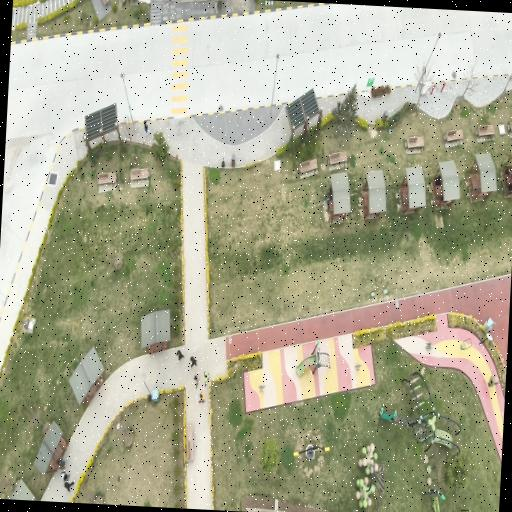person: (325, 187, 333, 206), (65, 480, 74, 492), (204, 371, 209, 387), (61, 471, 69, 481), (177, 350, 183, 362), (190, 356, 196, 368), (194, 375, 199, 388), (144, 120, 148, 135), (199, 393, 204, 403)
